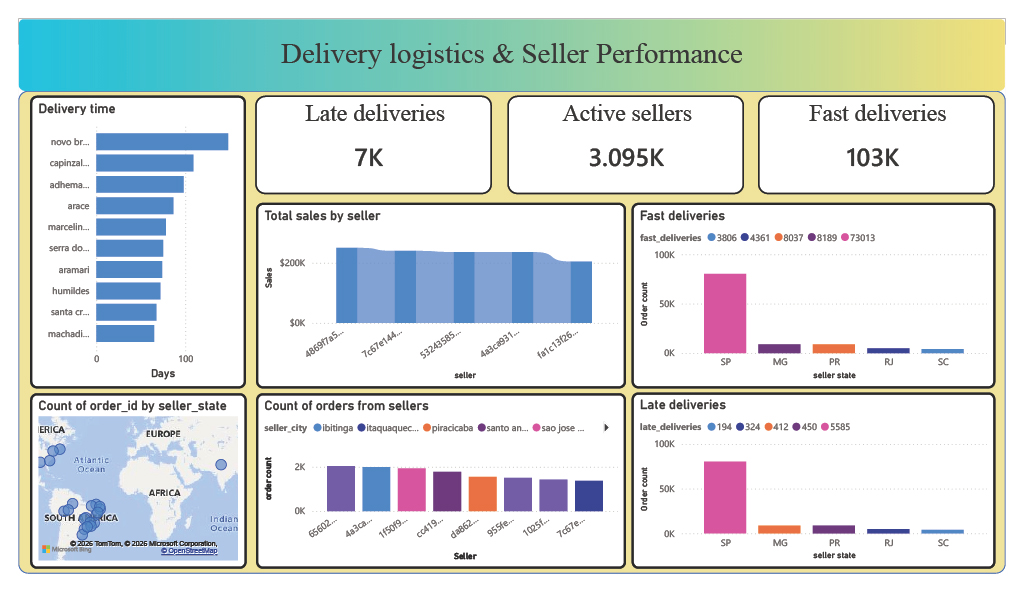

The dashboard page shown, as its layout file describes it:
{"tool":"powerbi","page":{"name":"Delivery logistics & Seller Performance","canvas":[1280,720],"ordinal":1},"visuals":[{"type":"shape","box":[0,94.3,1280,625.7],"z":0},{"type":"image","box":[0,0,1280,93.6],"z":1000},{"type":"textbox","box":[0,18.6,1280,64.3],"z":2000},{"type":"cardVisual","title":"Active sellers","fields":{"Data":["Count(cleaned_sellers_data.seller_id)"]},"box":[634,100,307,128],"z":3000},{"type":"cardVisual","title":"Late deliveries","fields":{"Data":["Sum(late_deliveries.late_deliveries)"]},"box":[307,100,307,128],"z":4000},{"type":"cardVisual","title":"Fast deliveries","fields":{"Data":["Sum(on_time_deliveries.fast_deliveries)"]},"box":[959,100,307,128],"z":5000},{"type":"map","fields":{"Category":["on_time_deliveries.seller_state"],"Size":["Count(cleaned_order_reviews_data.order_id)"]},"box":[14.5,486.4,281.8,227.3],"z":6000},{"type":"ribbonChart","title":"Total sales by seller","fields":{"Category":["cleaned_order_items_data.seller_id"],"Y":["Sum(cleaned_order_items_data.Total value)"]},"box":[307.5,239.2,480,240.8],"z":7000},{"type":"columnChart","title":"Fast deliveries","fields":{"Category":["late_deliveries.seller_state"],"Y":["CountNonNull(cleaned_order_items_data.order_id)"],"Series":["on_time_deliveries.fast_deliveries"]},"box":[795.5,239.1,471.8,240.9],"z":8000},{"type":"columnChart","title":"Late deliveries","fields":{"Category":["late_deliveries.seller_state"],"Y":["CountNonNull(cleaned_order_items_data.order_id)"],"Series":["late_deliveries.late_deliveries"]},"box":[795.5,485.5,471.8,228.2],"z":9000},{"type":"lineStackedColumnComboChart","title":"Count of orders from sellers","fields":{"Category":["cleaned_order_items_data.seller_id"],"Y":["CountNonNull(cleaned_order_items_data.order_id)"],"Series":["cleaned_sellers_data.seller_city"]},"box":[307.5,486.2,480,227.5],"z":10000},{"type":"clusteredBarChart","title":"Delivery time","fields":{"Y":["Avg(cleaned_orders_data.delivery time)"],"Category":["cleaned_customers_dataset.customer_city"]},"box":[14.5,100,280.9,380],"z":11000}]}

Visuals, with their boxes in screenshot pixels (x1, y1, x2, y2), scaled from the page's 1280x720 canvas onto the 1024x592 screenshot:
shape: (x1=0, y1=78, x2=1023, y2=591)
image: (x1=0, y1=0, x2=1023, y2=77)
textbox: (x1=0, y1=15, x2=1023, y2=68)
"Active sellers" cardVisual: (x1=507, y1=82, x2=753, y2=187)
"Late deliveries" cardVisual: (x1=246, y1=82, x2=491, y2=187)
"Fast deliveries" cardVisual: (x1=767, y1=82, x2=1013, y2=187)
map - on_time_deliveries.seller_state x Count(cleaned_order_reviews_data.order_id): (x1=12, y1=400, x2=237, y2=587)
"Total sales by seller" ribbonChart: (x1=246, y1=197, x2=630, y2=395)
"Fast deliveries" columnChart: (x1=636, y1=197, x2=1014, y2=395)
"Late deliveries" columnChart: (x1=636, y1=399, x2=1014, y2=587)
"Count of orders from sellers" lineStackedColumnComboChart: (x1=246, y1=400, x2=630, y2=587)
"Delivery time" clusteredBarChart: (x1=12, y1=82, x2=236, y2=395)
